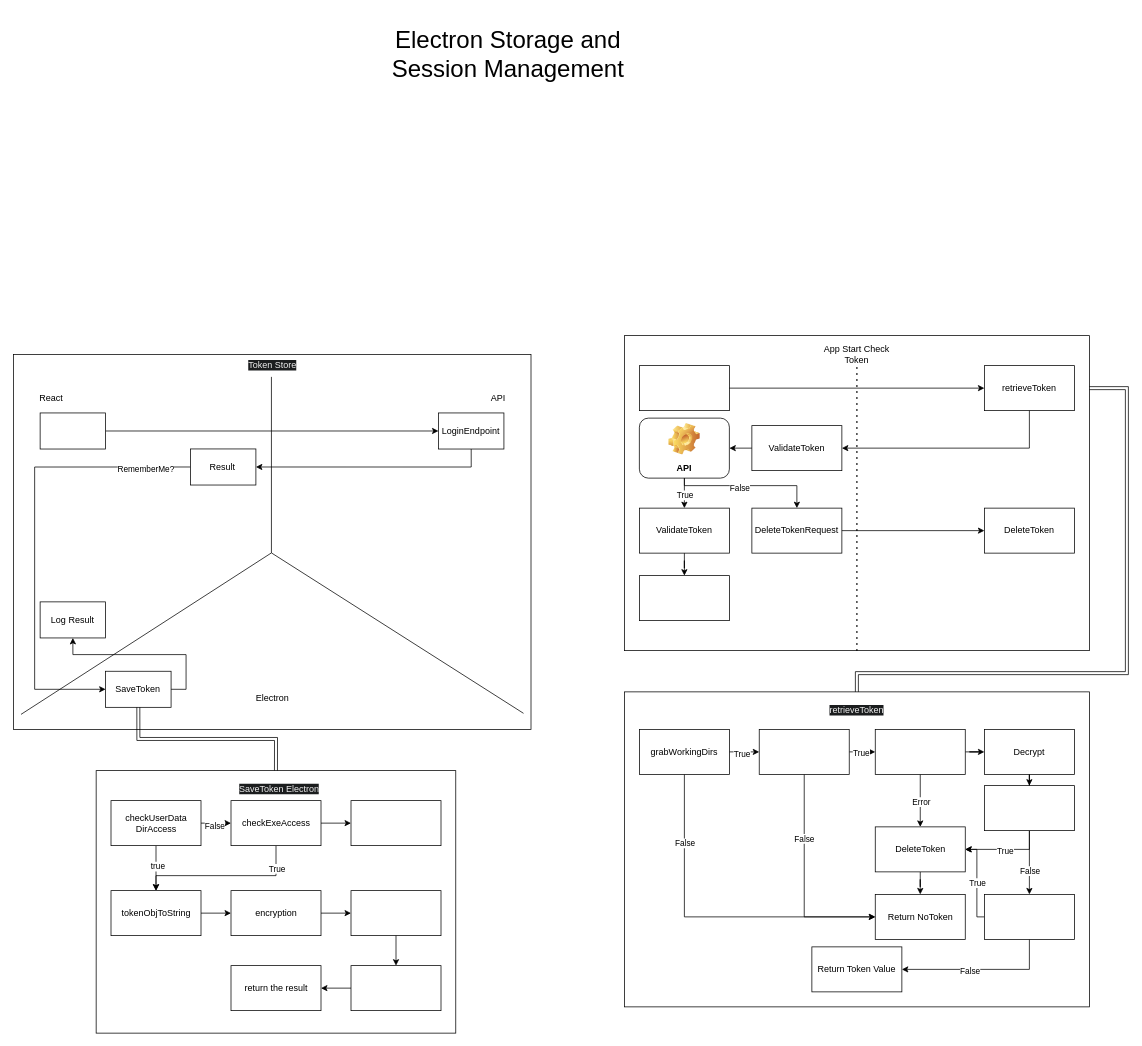
This 1142x1046 diagram has some shape labels left out. The centre of each missing label's shape, as x and y in pixels:
"add IV to encrypted data" belongs at (x=395, y=913).
"App Start" belongs at (x=684, y=388).
"CheckExpired" belongs at (x=1029, y=808).
"Deserialize Data" belongs at (x=919, y=751).
"log a non crashing error and halt the operation" belongs at (x=395, y=823).
"Login" belongs at (x=72, y=430).
"Look for s_id" belongs at (x=803, y=751).
"MachineID Doesn't Match" belongs at (x=1029, y=916).
"store as binary" belongs at (x=395, y=988).
"Store User Details in Global State" belongs at (x=684, y=598).
